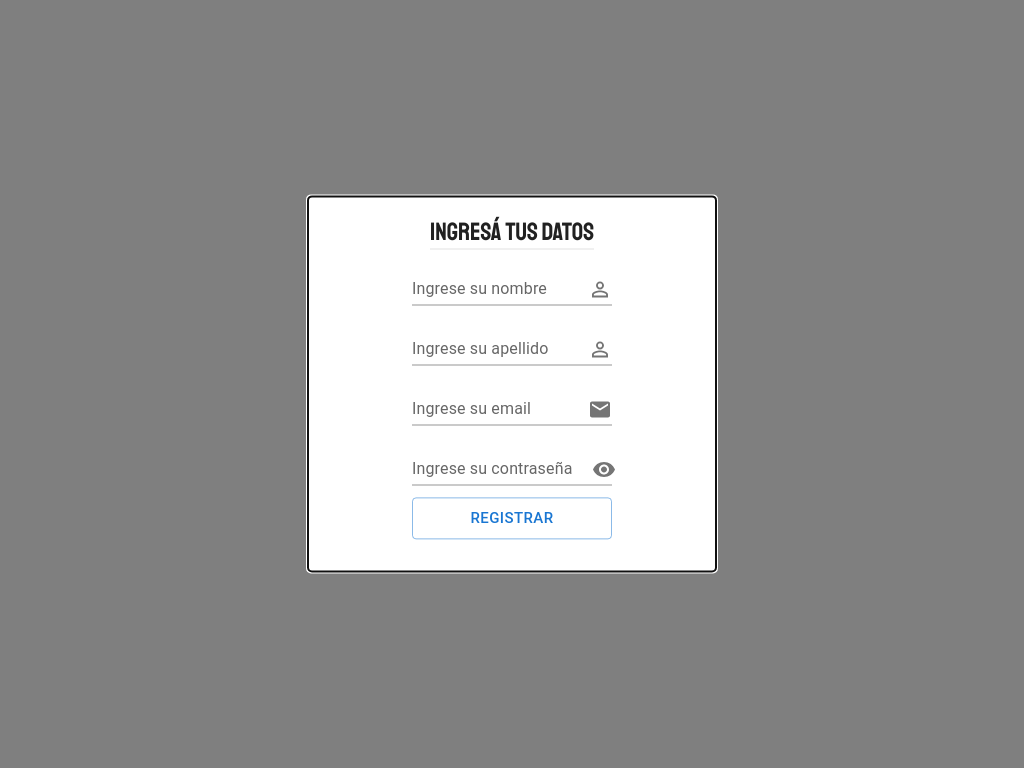
Test: Dado un usuario, cuando ingresa un email con formato incorrecto, entonces dicho error aparece debajo del input
In the element with test id "Register-email": (512, 409) [412,393,612,425], type "someEmail"
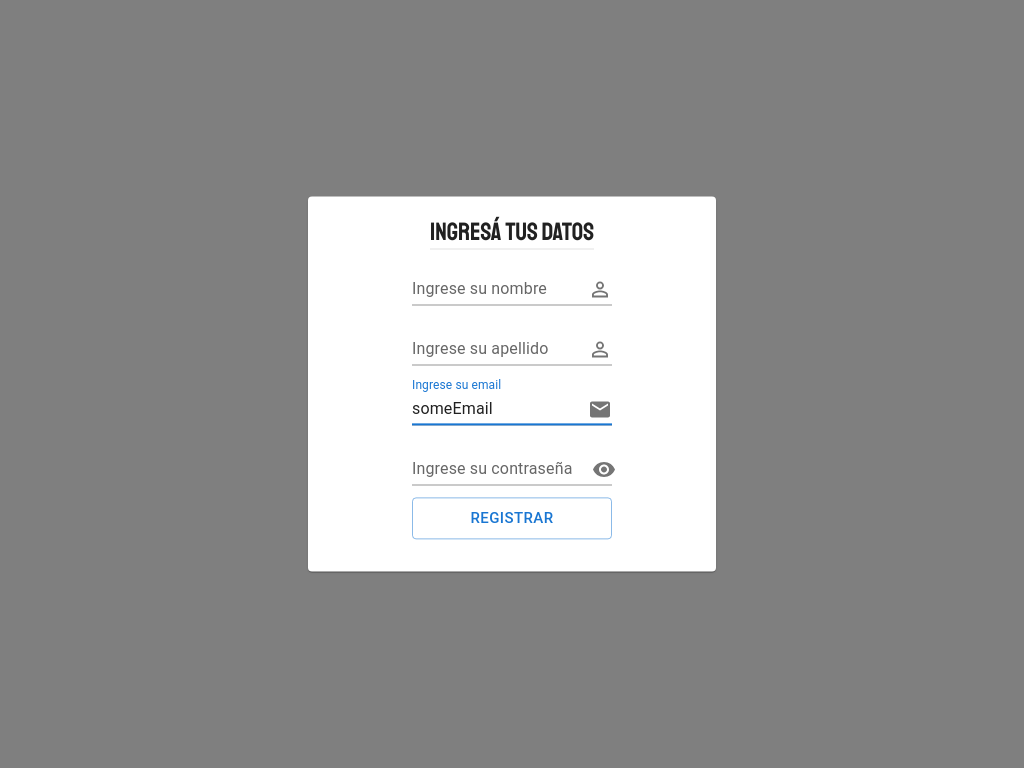
Click the button with test id "Register-button": (512, 519) [412,497,612,540]
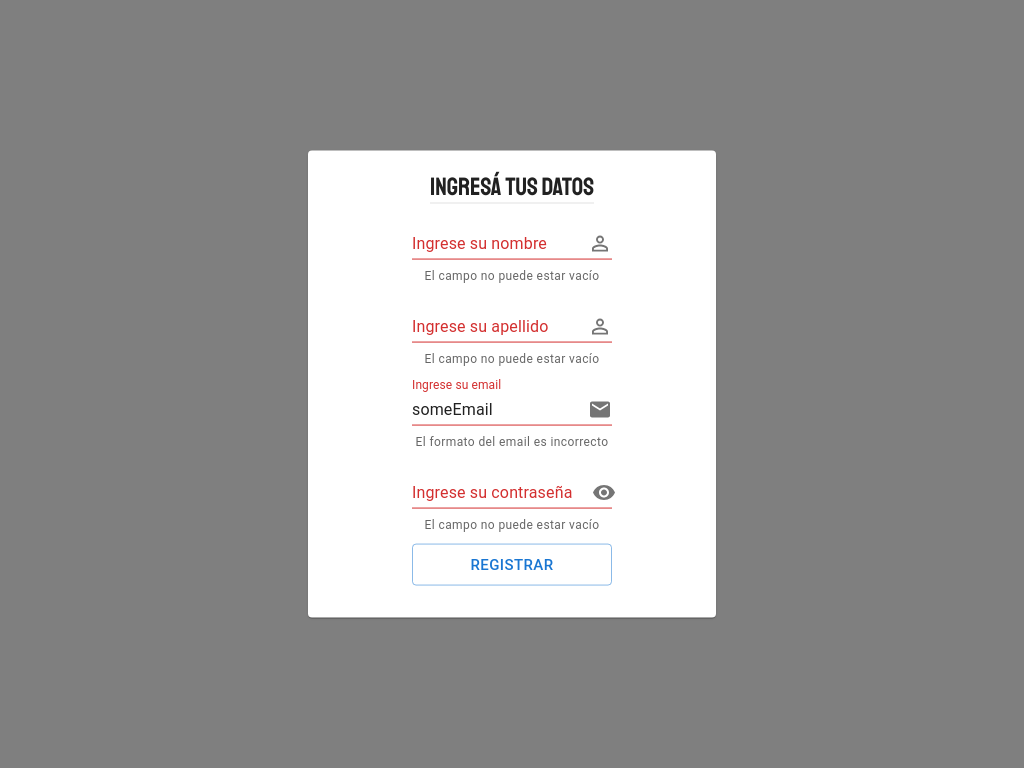
Expected: the text with test id "Register-email-helper-text" reads "El formato del email es incorrecto", [416,434,608,448]
